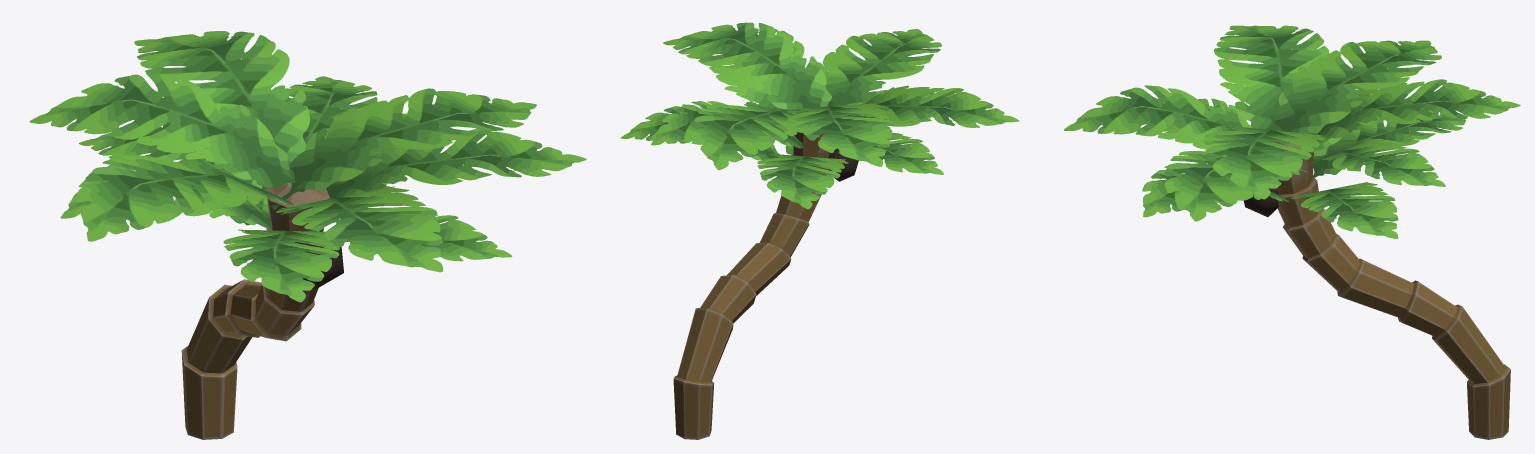
The model's file is palm tree 1.fbx.
3 renders of one model, left to right at view 1: azimuth 30°, elevation 25°; view 2: azimuth 150°, elevation 25°; view 3: azimuth 270°, elevation 25°, orthographic. The views are drawn at different scales.
Visible parts, largest first — view 1: Plane.005, Cylinder, Plane.001, Plane, Plane.003, Plane.002, Plane.004, Plane.008, Plane.006, Plane.010, Plane.011, Plane.009 (+1 smaller); view 2: Cylinder, Plane.001, Plane.002, Plane, Plane.005, Plane.003, Plane.011, Plane.006, Plane.009, Plane.004, Plane.007, Icosphere.002; view 3: Cylinder, Plane.005, Plane.003, Plane.002, Plane, Plane.001, Plane.007, Plane.004, Plane.006, Plane.011, Plane.010, Icosphere.
Part boxes in pixels (bbox=[...]): Plane.005: bbox=[29, 73, 295, 188]; Cylinder: bbox=[181, 182, 329, 439]; Plane.001: bbox=[271, 88, 536, 209]; Plane: bbox=[134, 31, 310, 168]; Plane.003: bbox=[76, 154, 293, 241]; Plane.002: bbox=[276, 186, 443, 272]; Plane.004: bbox=[326, 128, 586, 198]; Plane.008: bbox=[223, 229, 339, 302]; Plane.006: bbox=[256, 76, 377, 190]; Plane.010: bbox=[323, 214, 512, 261]; Plane.011: bbox=[79, 122, 269, 225]; Plane.009: bbox=[60, 160, 272, 228]; Cylinder: bbox=[673, 121, 829, 439]; Plane.001: bbox=[663, 22, 831, 115]; Plane.002: bbox=[816, 29, 941, 106]; Plane: bbox=[691, 100, 816, 170]; Plane.005: bbox=[787, 103, 893, 166]; Plane.003: bbox=[847, 85, 1018, 127]; Plane.011: bbox=[757, 153, 848, 209]; Plane.006: bbox=[651, 101, 803, 148]; Plane.009: bbox=[815, 130, 943, 174]; Plane.004: bbox=[700, 28, 804, 115]; Plane.007: bbox=[620, 104, 779, 160]; Icosphere.002: bbox=[828, 148, 858, 181]; Cylinder: bbox=[1274, 141, 1510, 439]; Plane.005: bbox=[1273, 40, 1441, 133]; Plane.003: bbox=[1214, 25, 1328, 130]; Plane.002: bbox=[1064, 85, 1251, 147]; Plane: bbox=[1311, 79, 1520, 143]; Plane.001: bbox=[1203, 125, 1325, 199]; Plane.007: bbox=[1291, 182, 1398, 238]; Plane.004: bbox=[1164, 151, 1308, 221]; Plane.006: bbox=[1305, 139, 1445, 186]; Plane.011: bbox=[1313, 110, 1468, 177]; Plane.010: bbox=[1142, 166, 1289, 217]; Icosphere: bbox=[1243, 188, 1278, 217].
Bounding box in the file's own units: 2379 × 1815 × 2320.
Materials: 2 (2 with a texture image).
